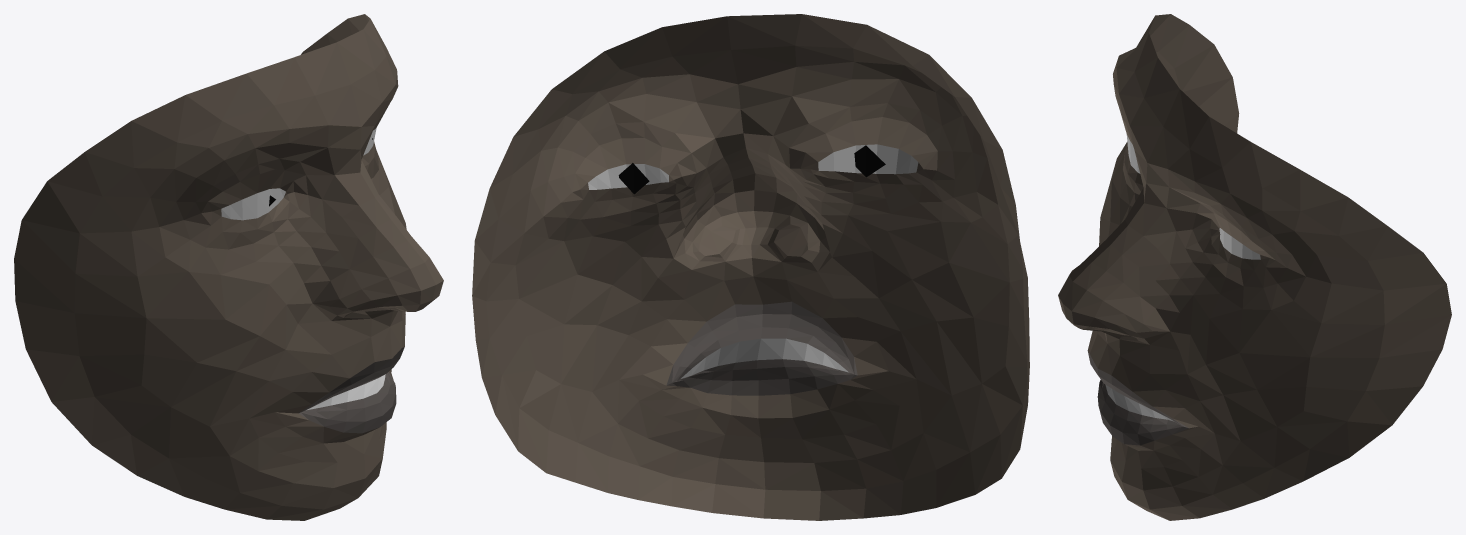
The model's file is 01HDCVE68WMY094CSQ6Q7F80NT-low-res-branded.obj.
The picture shows the model from 3 angles, left to right: view 1: azimuth 30°, elevation 25°; view 2: azimuth 150°, elevation 25°; view 3: azimuth 270°, elevation 25°; orthographic projection. The views are drawn at different scales.
Visible parts, largest first — view 1: face_model_with_iris; view 2: face_model_with_iris; view 3: face_model_with_iris.
Boxes of the visible parts, <box> form: face_model_with_iris: <box>14,14,443,520</box>; face_model_with_iris: <box>472,14,1029,520</box>; face_model_with_iris: <box>1058,14,1451,520</box>.
Size of the model in its own units: 0.9299 by 0.998 by 0.8188.
